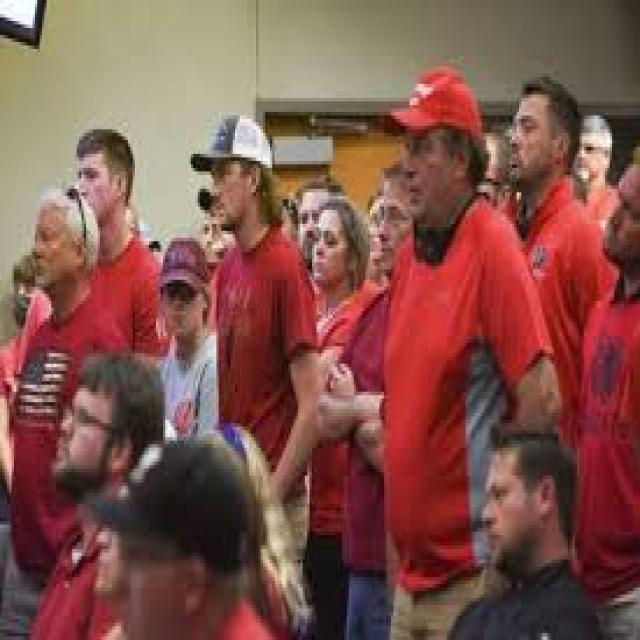cap: (377, 52, 489, 196), (179, 101, 293, 196), (156, 227, 216, 329)
